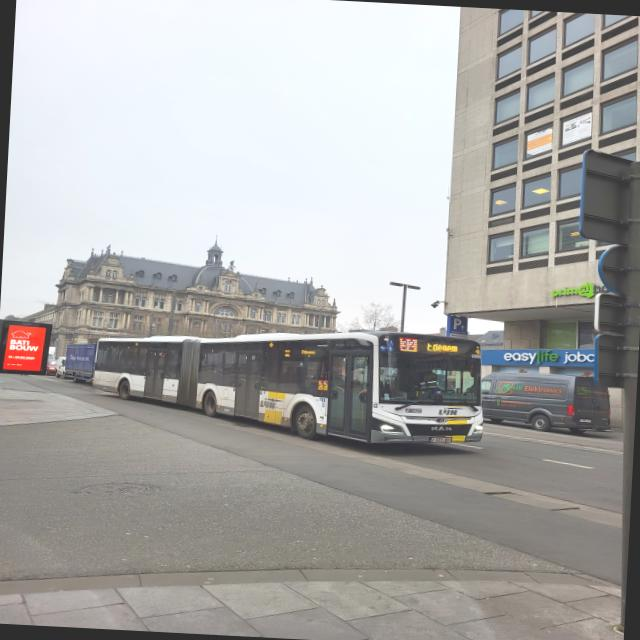bus-number: (400, 338, 418, 352)
